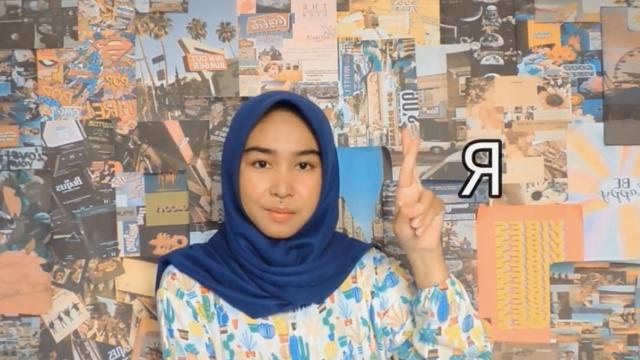R: (388, 122, 450, 250)
